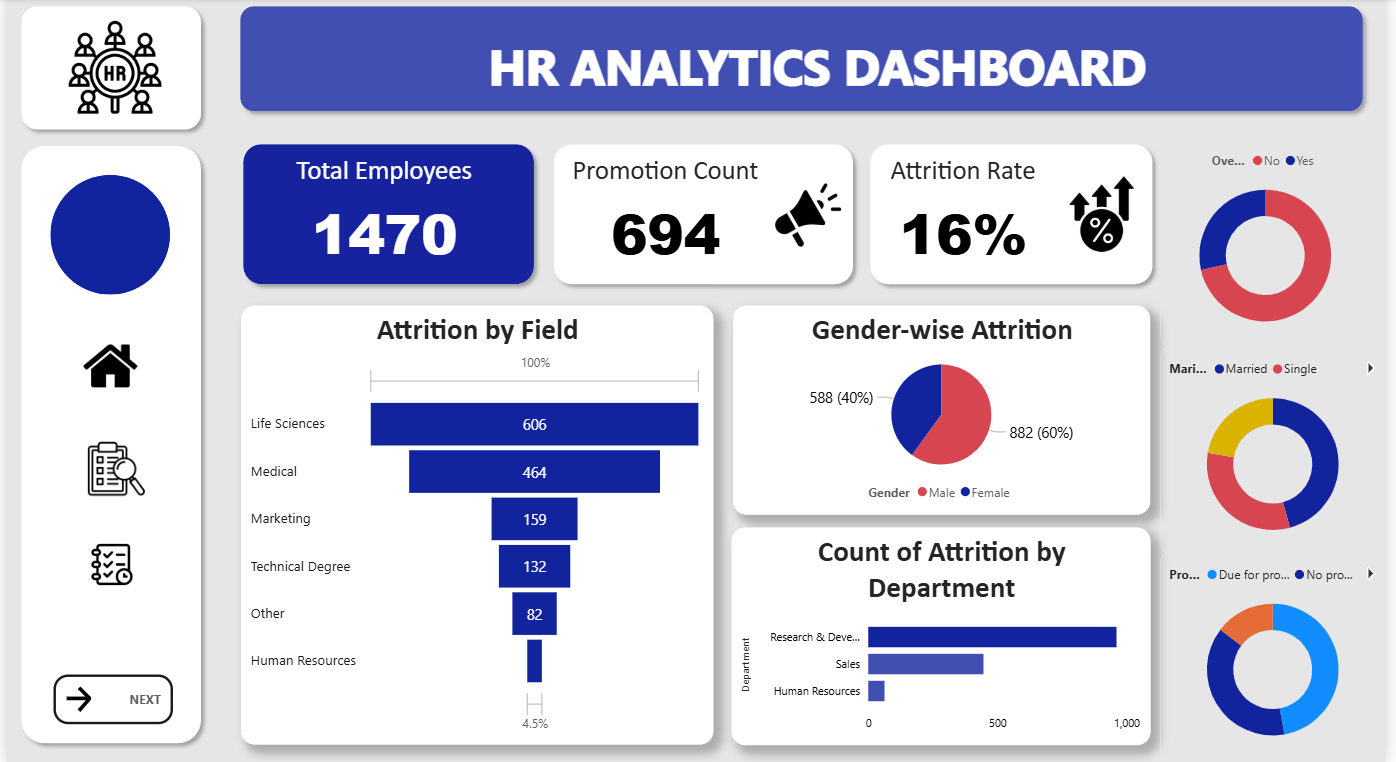

The dashboard page shown, as its layout file describes it:
{"tool":"powerbi","page":{"name":"Home","canvas":[1515,842],"ordinal":0},"visuals":[{"type":"shape","box":[7.3,153.5,215.7,675],"z":0},{"type":"shape","box":[7.3,0,215.7,153.5],"z":1000},{"type":"shape","box":[246.8,0,1252.1,133.4],"z":2000,"group":"g1"},{"type":"image","box":[51.6,20.3,136,112.5],"z":2000},{"type":"shape","box":[250.4,151.7,337.6,171.9],"z":3000,"group":"g3"},{"type":"shape","box":[48.5,193.8,131.3,131.3],"z":3000},{"type":"shape","box":[591.1,151.7,347,171.9],"z":4000,"group":"g4"},{"type":"actionButton","box":[51.2,743.9,131.6,54.8],"z":4000},{"type":"shape","box":[939.5,151.7,328.2,171.9],"z":5000,"group":"g2"},{"type":"pieChart","title":"\tGender-wise Attrition","fields":{"Category":["HR Analytics Data.Gender"],"Y":["CountNonNull(HR Analytics Data.Attrition)"]},"box":[798.8,338.1,458.8,230.3],"z":5000},{"type":"barChart","fields":{"Y":["CountNonNull(HR Analytics Data.Attrition)"],"Category":["HR Analytics Data.Department"]},"box":[796.9,581.2,460.6,239.4],"z":6000},{"type":"group","id":"g1","title":"Group 1","box":[246.8,0,1252.1,133.4],"z":7000},{"type":"textbox","box":[313,18.3,1155.2,98.7],"z":8000,"group":"g1"},{"type":"funnel","title":"Attrition by Field","fields":{"Category":["HR Analytics Data.EducationField"],"Y":["CountNonNull(HR Analytics Data.Attrition)"]},"box":[257.7,338.1,519.1,482.5],"z":8000},{"type":"group","id":"g2","title":"Group 2","box":[939.5,151.7,327.2,171.8],"z":9000},{"type":"group","id":"g3","title":"Group 4","box":[250.4,151.7,689.1,171.8],"z":10000},{"type":"image","box":[62.5,369.9,102.5,69.5],"z":11000},{"type":"card","title":"Total Employees","fields":{"Values":["HR Analytics Data.Total Employees"]},"box":[294.2,172,239.1,131.3],"z":12000,"group":"g3"},{"type":"image","box":[76.4,479.3,88.6,74.7],"z":12000},{"type":"card","title":"Promotion Count","fields":{"Values":["HR Analytics Data.Promotion Count"]},"box":[613,172,220.4,131.3],"z":13000,"group":"g4"},{"type":"image","box":[86.8,581.8,55.6,81.6],"z":13000},{"type":"donutChart","fields":{"Y":["Sum(HR Analytics Data.DailyRate)"],"Category":["HR Analytics Data.OverTime"]},"box":[1268.5,153.5,230.3,230.3],"z":13001},{"type":"donutChart","fields":{"Category":["HR Analytics Data.MaritalStatus"],"Y":["CountNonNull(HR Analytics Data.OverTime)"]},"box":[1268.5,382,246.8,230.3],"z":13002},{"type":"donutChart","fields":{"Y":["CountNonNull(HR Analytics Data.OverTime)"],"Category":["HR Analytics Data.Promotion Status"]},"box":[1268.5,608.7,246.8,230.3],"z":13004},{"type":"card","title":"Attrition Rate","fields":{"Values":["HR Analytics Data.Attrition Rate"]},"box":[953.6,172,192.2,131.3],"z":14000,"group":"g2"},{"type":"image","box":[822.4,193.9,115.7,87.5],"z":17000,"group":"g4"},{"type":"image","box":[1145.8,189.2,114.1,95.3],"z":18000,"group":"g2"},{"type":"group","id":"g4","title":"Group 3","box":[591.1,151.7,347,171.9],"z":18006,"group":"g3"}]}

Visuals, with their boxes in screenshot pixels (x1, y1, x2, y2), scaled from the page's 1515x842 canvas onto the 1396x762 screenshot:
shape: 7, 139, 205, 750
shape: 7, 0, 205, 139
shape: 227, 0, 1381, 121
image: 48, 18, 173, 120
shape: 231, 137, 542, 293
shape: 45, 175, 166, 294
shape: 545, 137, 864, 293
actionButton: 47, 673, 168, 723
shape: 866, 137, 1168, 293
"	Gender-wise Attrition" pieChart: 736, 306, 1159, 514
barChart - CountNonNull(HR Analytics Data.Attrition) x HR Analytics Data.Department: 734, 526, 1159, 743
"Group 1" group: 227, 0, 1381, 121
textbox: 288, 17, 1353, 106
"Attrition by Field" funnel: 237, 306, 716, 743
"Group 2" group: 866, 137, 1167, 293
"Group 4" group: 231, 137, 866, 293
image: 58, 335, 152, 398
"Total Employees" card: 271, 156, 491, 274
image: 70, 434, 152, 501
"Promotion Count" card: 565, 156, 768, 274
image: 80, 527, 131, 600
donutChart - Sum(HR Analytics Data.DailyRate) x HR Analytics Data.OverTime: 1169, 139, 1381, 347
donutChart - HR Analytics Data.MaritalStatus x CountNonNull(HR Analytics Data.OverTime): 1169, 346, 1395, 554
donutChart - CountNonNull(HR Analytics Data.OverTime) x HR Analytics Data.Promotion Status: 1169, 551, 1395, 759
"Attrition Rate" card: 879, 156, 1056, 274
image: 758, 175, 864, 255
image: 1056, 171, 1161, 257
"Group 3" group: 545, 137, 864, 293
